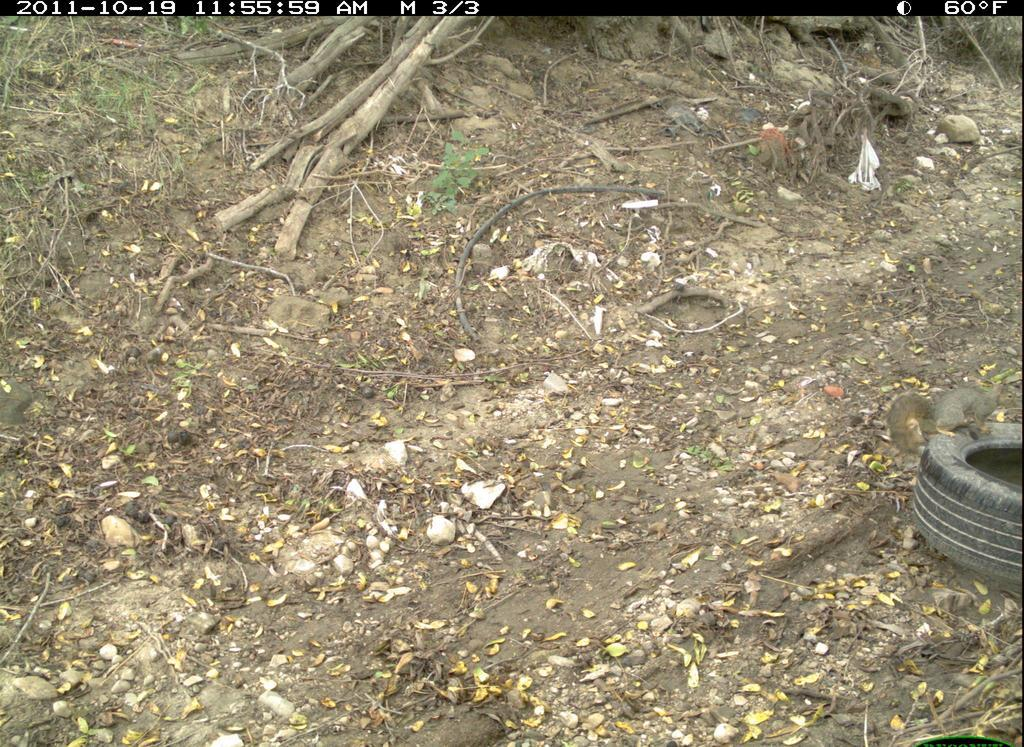squirrel: (876, 358, 1016, 470)
